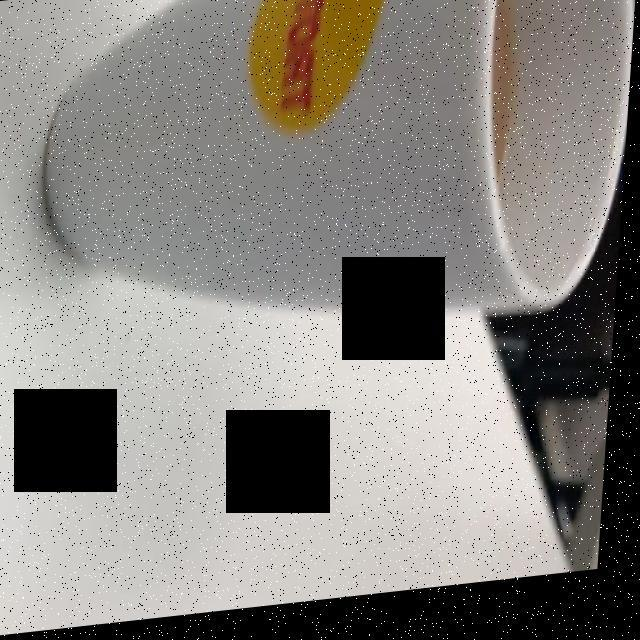drink: (489, 0, 536, 225)
